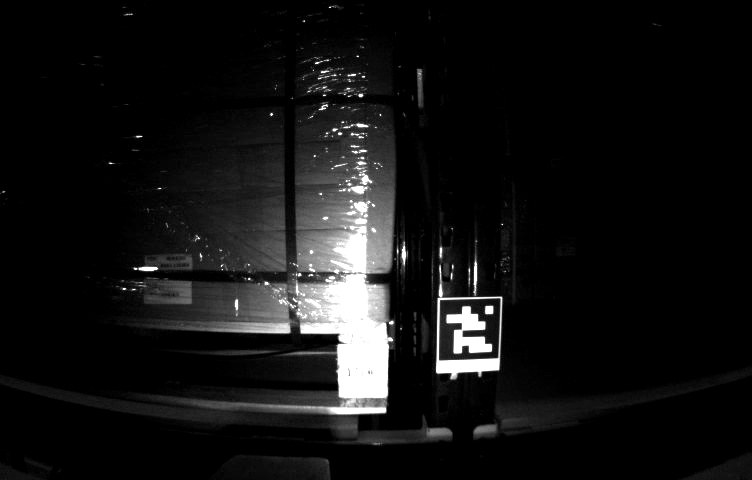True Barcode: (145, 254, 193, 305)
